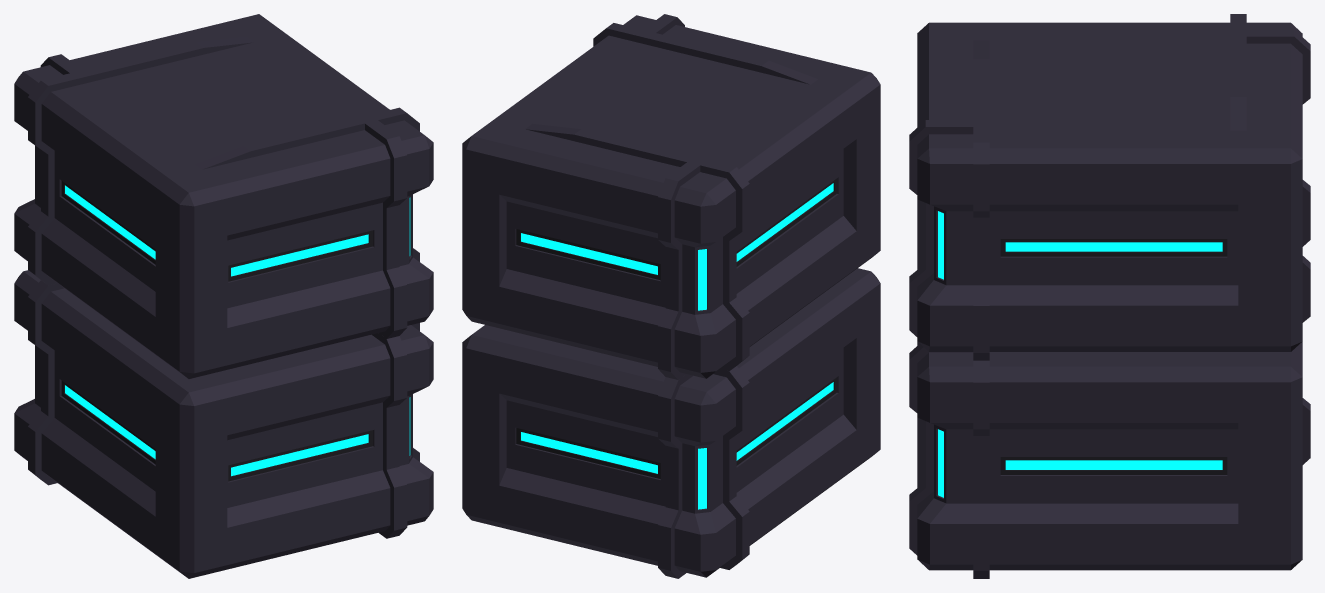
The model's file is SM_Double_Block.fbx.
3 views of the same model, side by side, from view 1: azimuth 30°, elevation 25°; view 2: azimuth 150°, elevation 25°; view 3: azimuth 270°, elevation 25° (orthographic). The views are drawn at different scales.
Visible parts, largest first — view 1: SM_Double_Block; view 2: SM_Double_Block; view 3: SM_Double_Block.
Boxes of the visible parts, x1,y1,x2,y2 form: SM_Double_Block: (14,14,433,578); SM_Double_Block: (462,14,880,578); SM_Double_Block: (909,14,1310,578).
Size of the model in its own units: 105 by 150 by 125.
